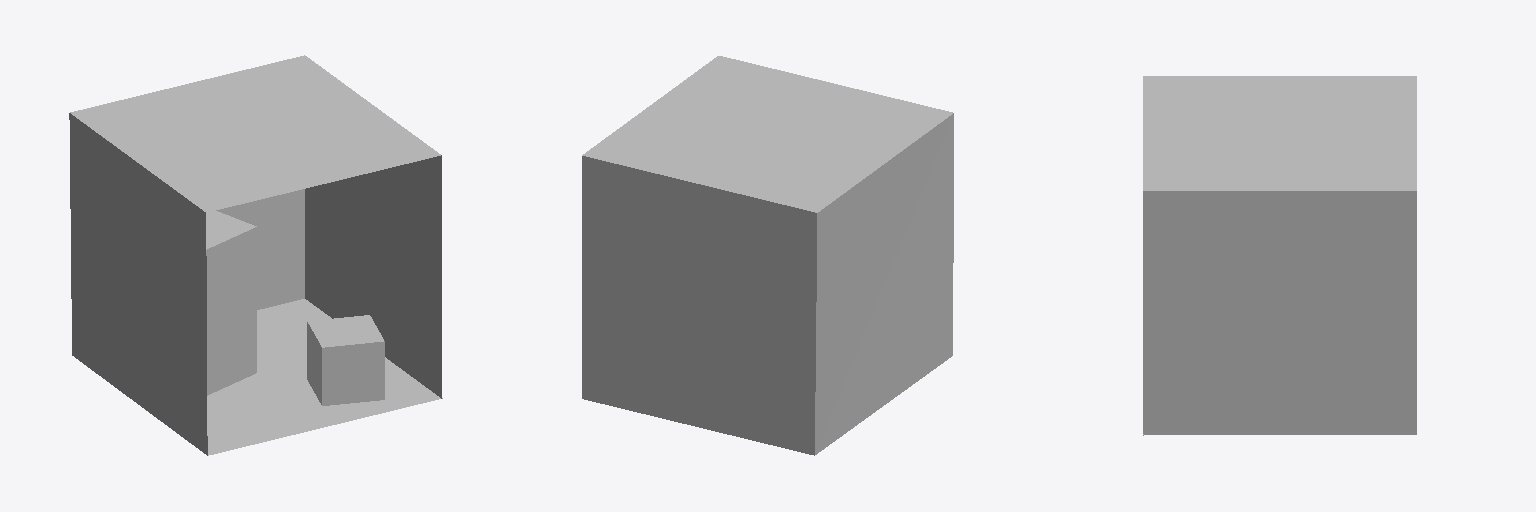
File: ProRender1.obj
3 renders of one model, left to right at view 1: azimuth 30°, elevation 25°; view 2: azimuth 150°, elevation 25°; view 3: azimuth 270°, elevation 25°, orthographic.
Visible parts, largest first — view 1: cornell_box, large_box, small_box; view 2: cornell_box; view 3: cornell_box.
Part boxes in pixels (left/top/right/bottom): cornell_box: left=69, top=55, right=441, bottom=455; large_box: left=206, top=211, right=256, bottom=395; small_box: left=307, top=315, right=384, bottom=405; cornell_box: left=582, top=56, right=953, bottom=455; cornell_box: left=1143, top=76, right=1416, bottom=434.
Size of the model in its own units: 557 by 550 by 560.